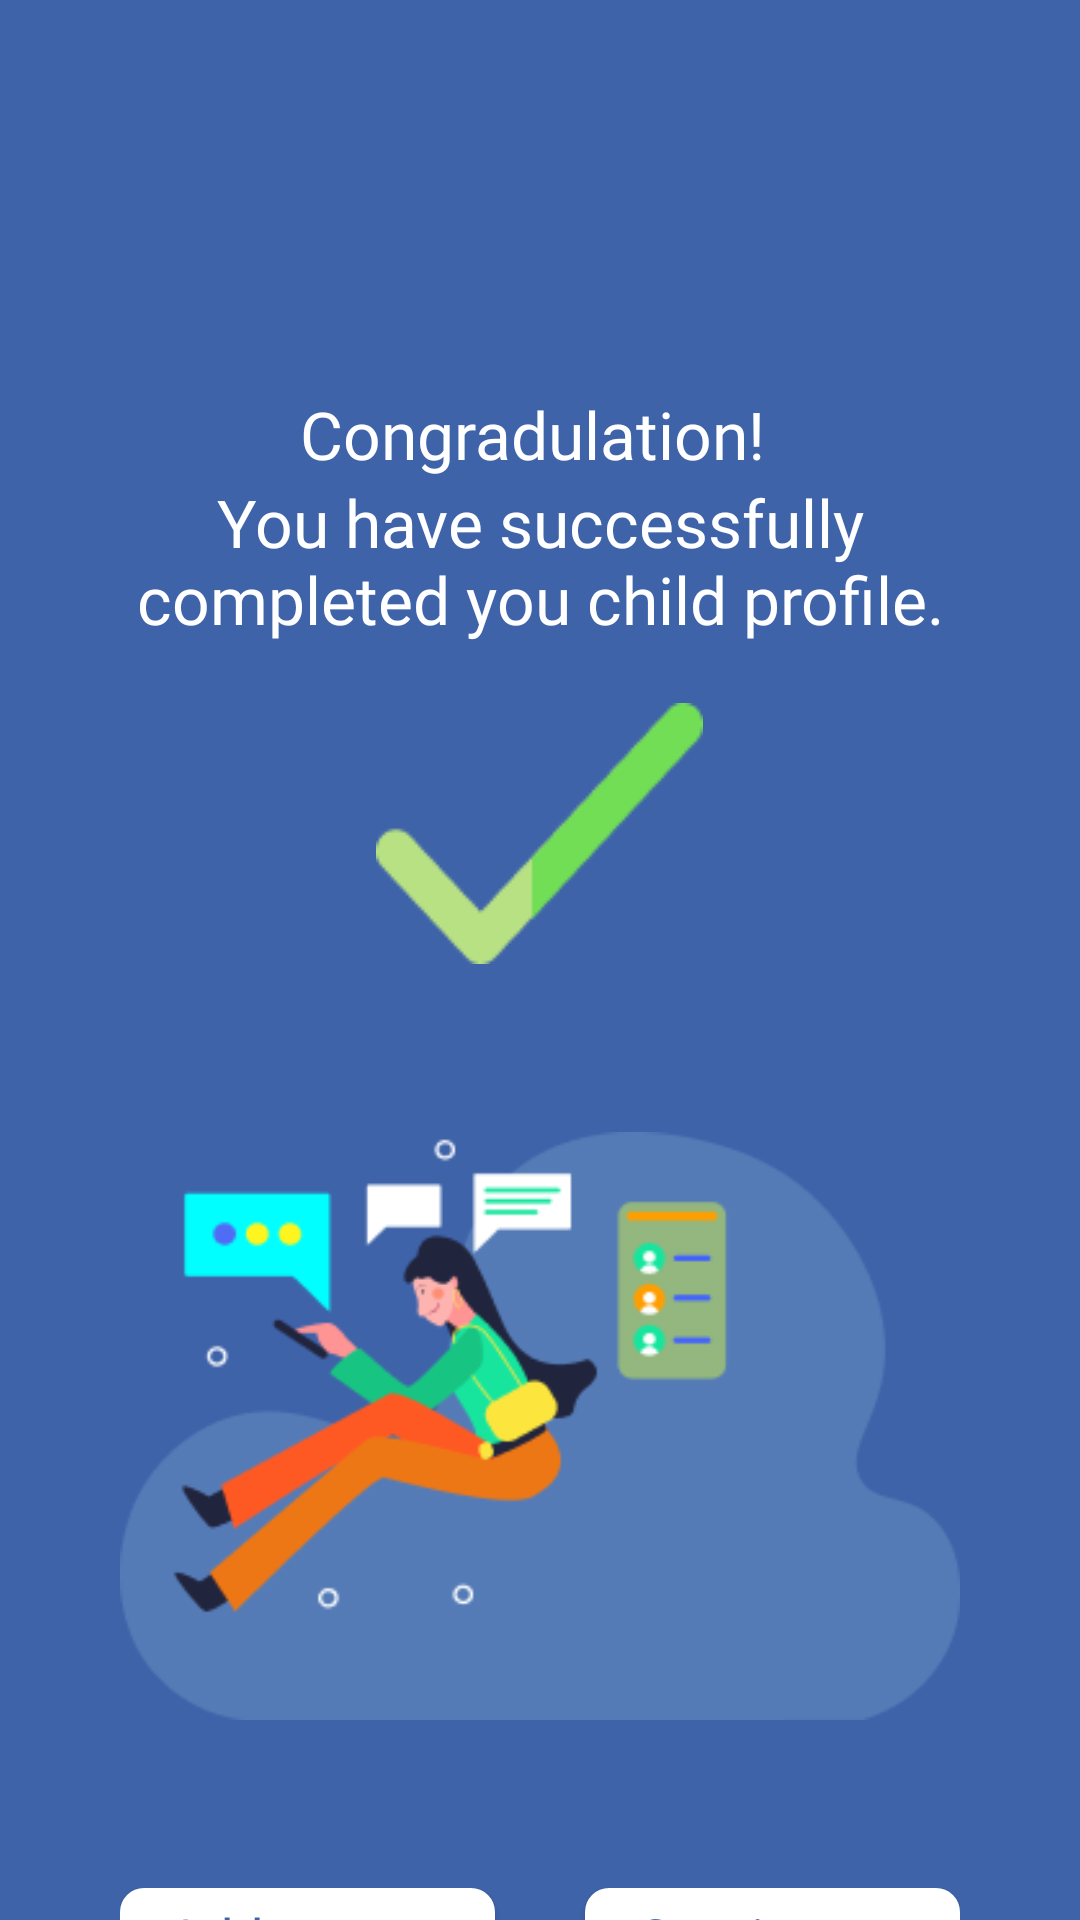

Screen size 1080 × 1920. Icon name, then its box in pixels as (x1, y1, x2, y2):
tick: (376, 703, 703, 964)
